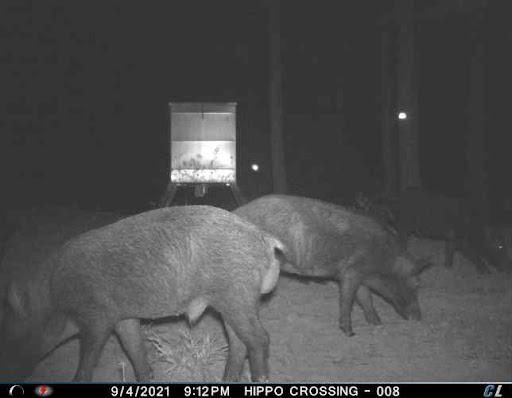Hog: (1, 203, 284, 387), (229, 191, 434, 334), (387, 184, 512, 280)
